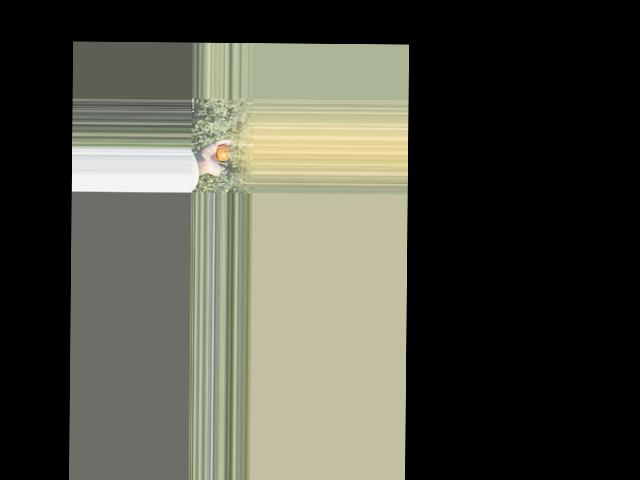tomato: (216, 144, 231, 160)
